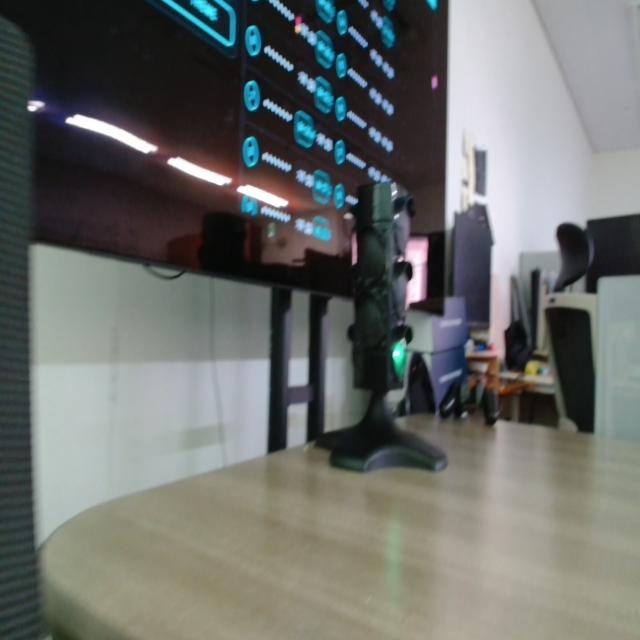green_light: (392, 341, 406, 379)
